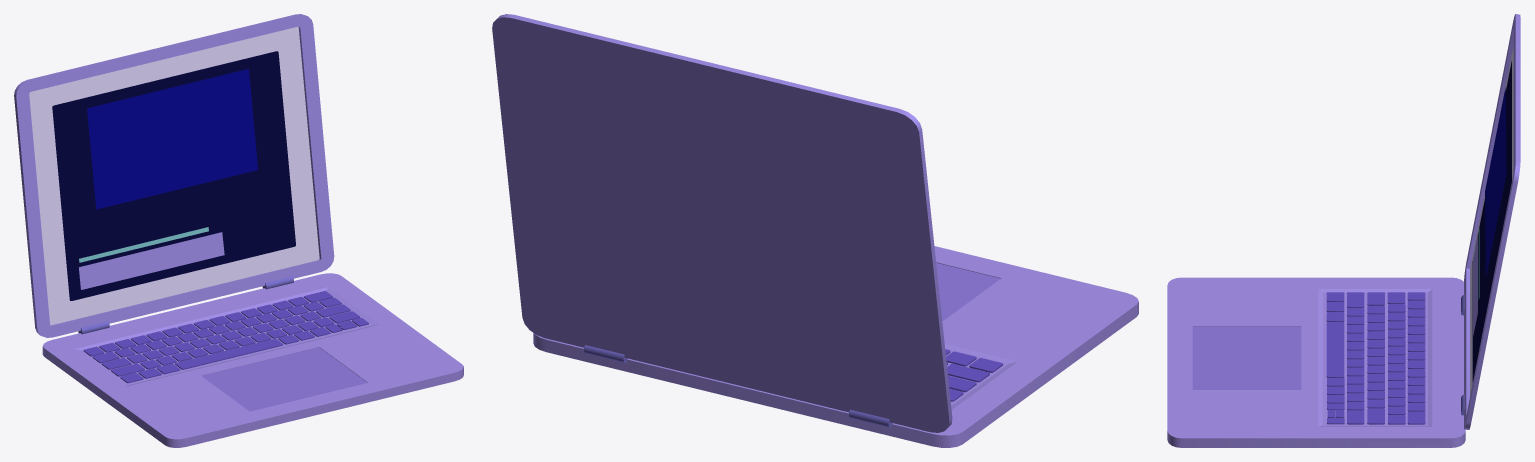
File: Keyboard_purple.glb
The picture shows the model from 3 angles, left to right: view 1: azimuth 30°, elevation 25°; view 2: azimuth 150°, elevation 25°; view 3: azimuth 270°, elevation 25°; orthographic projection. The views are drawn at different scales.
Visible parts, largest first — view 1: Laptop; view 2: Laptop; view 3: Laptop.
Boxes of the visible parts, box(x1,y1,x2,y2) form: Laptop: box(14, 14, 463, 447); Laptop: box(492, 14, 1138, 447); Laptop: box(1167, 14, 1520, 447).
Bounding box in the file's own units: 2.55 × 2.06 × 2.37.
